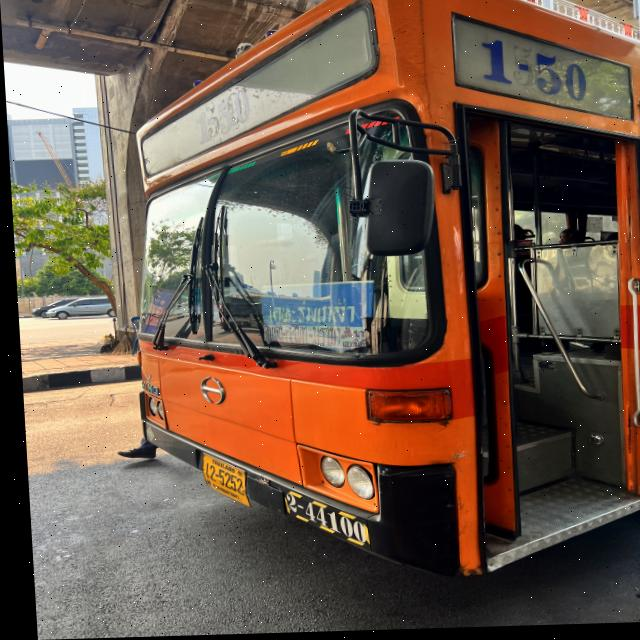BMTA-bus: (129, 0, 640, 583)
Bus Line Number: (474, 30, 594, 111), (188, 82, 251, 154)
Bus Side Number: (281, 493, 365, 551)
Destination Sign: (255, 282, 372, 356)
